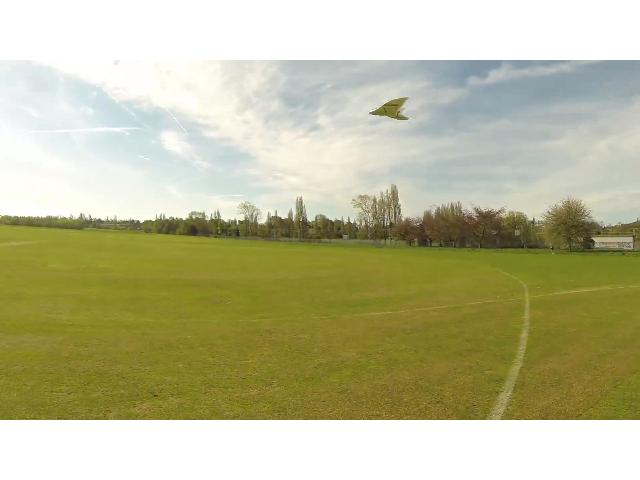Anti-Drone: (362, 91, 426, 125)
